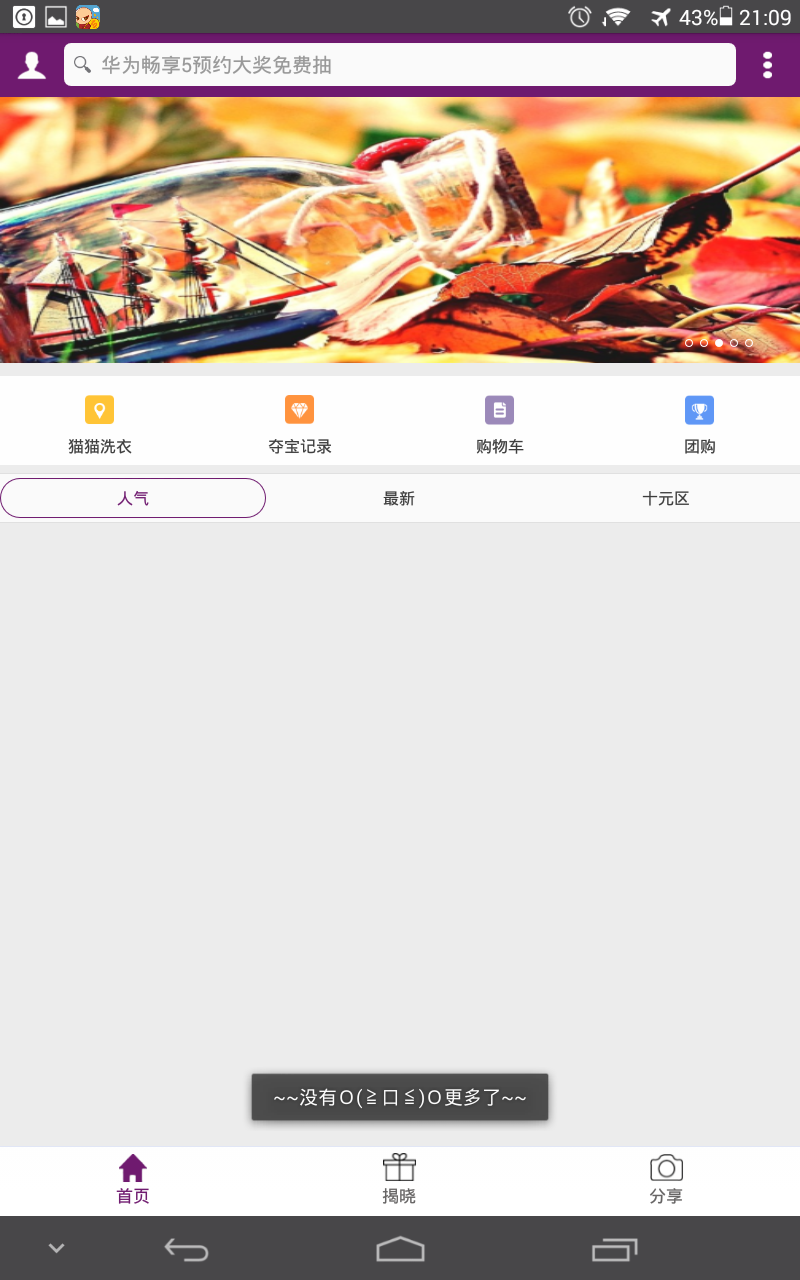alert: (239, 1067, 564, 1128)
nav: (28, 1144, 780, 1216), (1, 473, 796, 519)
textview: (54, 38, 759, 92)
